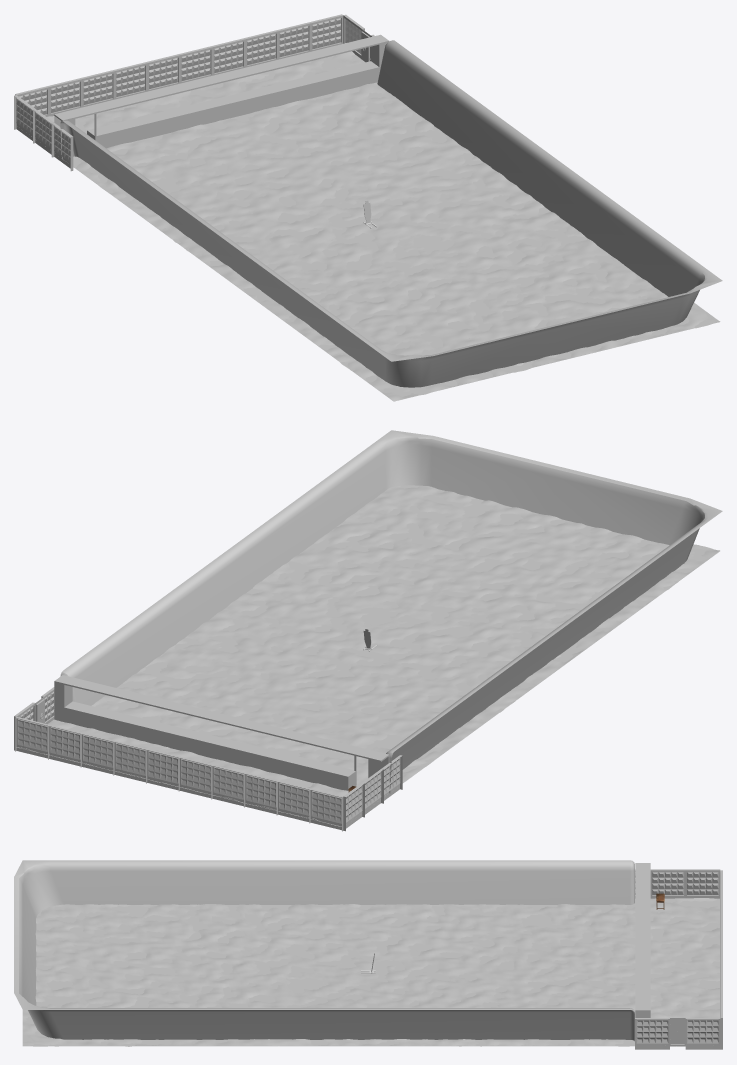
The model's file is polygon.fbx.
The picture shows the model from 3 angles, top to bottom: view 1: azimuth 30°, elevation 25°; view 2: azimuth 150°, elevation 25°; view 3: azimuth 270°, elevation 25°; orthographic projection. The views are drawn at different scales.
Parts seen in each view (by area): view 1: Plane.001, sand, Plane, Cube, wall.010, wall.003, wall.006, wall.001, wall.008, wall.005, wall.004, wall.007 (+3 smaller); view 2: Plane.001, sand, Plane, Cube, wall.009, wall.006, wall.003, wall.008, wall.001, wall.002, wall.007, wall.005 (+5 smaller); view 3: Plane.001, sand, Plane, Cube, wall.015, wall.013, wall.011, wall.016, door.
Part boxes in pixels (bbox=[...]): Plane.001: bbox=[47, 51, 719, 400]; sand: bbox=[60, 40, 722, 387]; Plane: bbox=[73, 54, 719, 401]; Cube: bbox=[54, 34, 389, 148]; wall.010: bbox=[309, 14, 343, 51]; wall.003: bbox=[113, 62, 147, 99]; wall.006: bbox=[211, 38, 245, 75]; wall.001: bbox=[48, 78, 81, 116]; wall.008: bbox=[277, 22, 310, 59]; wall.005: bbox=[179, 46, 212, 83]; wall.004: bbox=[146, 54, 179, 91]; wall.007: bbox=[244, 30, 277, 67]; Plane.001: bbox=[17, 485, 719, 826]; sand: bbox=[60, 430, 722, 793]; Plane: bbox=[17, 485, 719, 826]; Cube: bbox=[54, 675, 389, 791]; wall.009: bbox=[309, 788, 343, 831]; wall.006: bbox=[113, 741, 147, 783]; wall.003: bbox=[211, 764, 245, 807]; wall.008: bbox=[48, 725, 81, 767]; wall.001: bbox=[276, 780, 310, 823]; wall.002: bbox=[244, 772, 277, 815]; wall.007: bbox=[80, 732, 114, 775]; wall.005: bbox=[146, 748, 179, 791]; Plane.001: bbox=[22, 898, 719, 1046]; sand: bbox=[14, 860, 634, 1041]; Plane: bbox=[22, 898, 719, 1046]; Cube: bbox=[635, 863, 650, 1017]; wall.015: bbox=[685, 1018, 720, 1049]; wall.013: bbox=[635, 1018, 669, 1049]; wall.011: bbox=[650, 869, 685, 898]; wall.016: bbox=[685, 869, 720, 898]; door: bbox=[670, 1018, 685, 1046].
Size of the model in its own units: 2540 by 323 by 5080.
